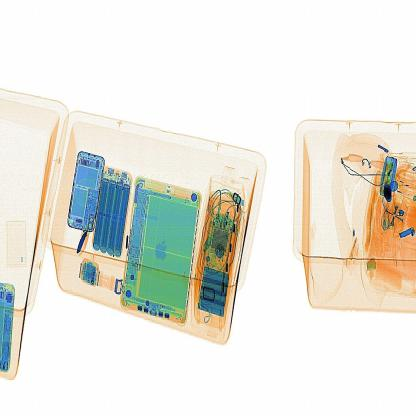wrench: (65, 224, 94, 262)
